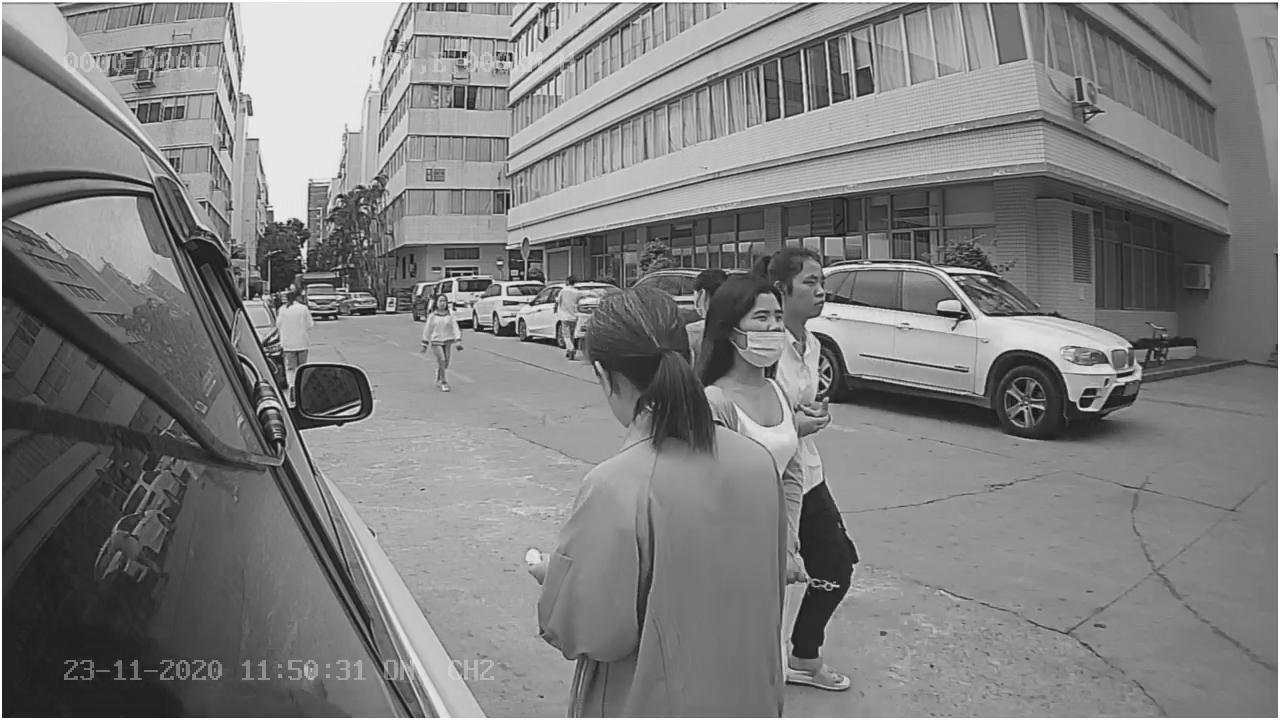person: (525, 285, 784, 659)
